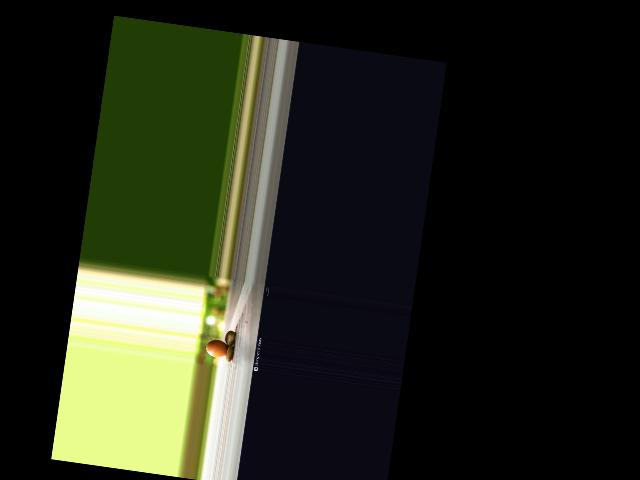egg: (205, 338, 229, 358)
